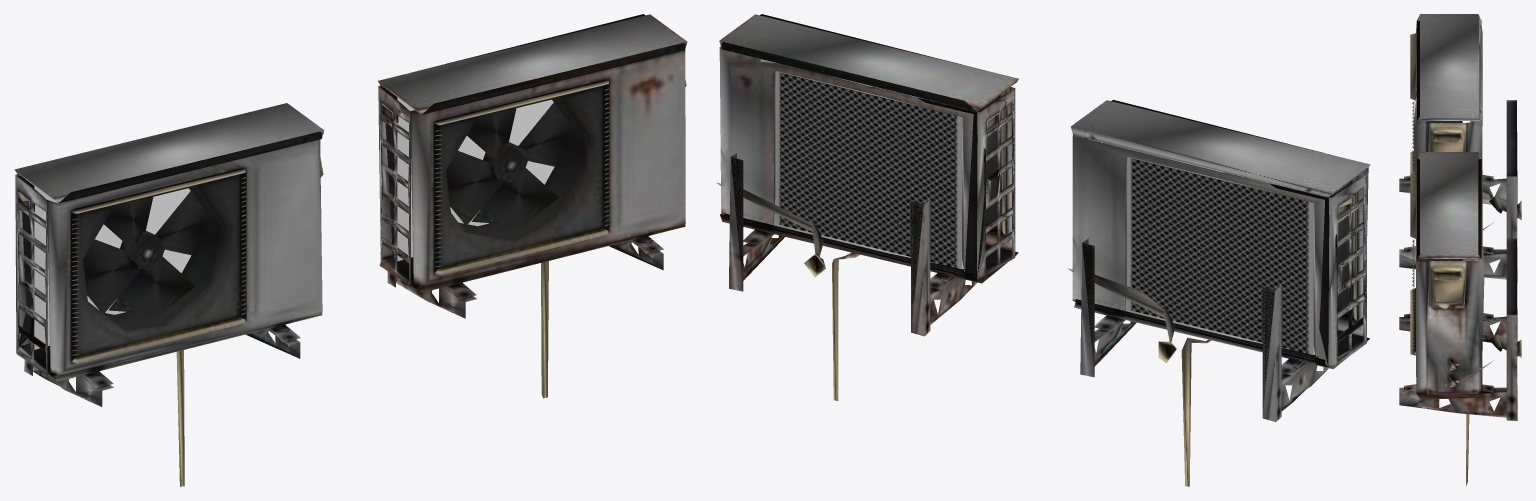
File: aircon-exterior.lite.d321590e.glb
The picture shows the model from 3 angles, left to right: view 1: azimuth 30°, elevation 25°; view 2: azimuth 150°, elevation 25°; view 3: azimuth 270°, elevation 25°; orthographic projection. The views are drawn at different scales.
Visible parts, largest first — view 1: model; view 2: model; view 3: model.
Boxes of the visible parts, <box> form: model: <box>14,14,687,486</box>; model: <box>717,14,1370,486</box>; model: <box>1399,14,1521,486</box>.
Size of the model in its own units: 1.8 by 0.922 by 0.3742.
Materials: 4 (4 with a texture image).
